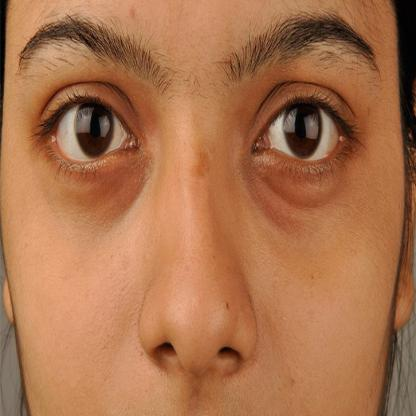wrinkle: (249, 168, 356, 233)
